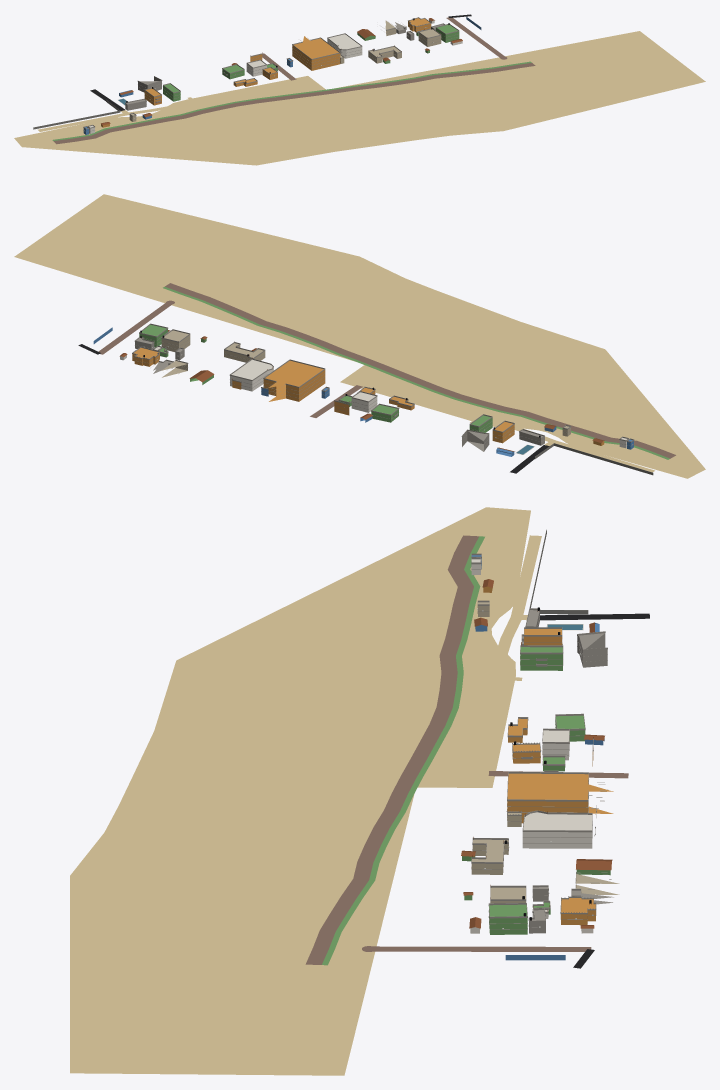
File: zone_t4_-2.glb
3 renders of one model, top to bottom at view 1: azimuth 30°, elevation 25°; view 2: azimuth 150°, elevation 25°; view 3: azimuth 270°, elevation 25°, orthographic. The views are drawn at different scales.
Parts seen in each view (by area): view 1: zone_plage_t4_-2, promenade_t4_-2, bld_peinture_ocre_t4_-2-col, parapet_t4_-2, piste_cyclable_t4_-2, route_residential_terre_t4_-2, bld_peinture_vert_t4_-2-col, bld_peinture_blanc_t4_-2-col, bld_peinture_ecaillee_t4_-2-col, bld_beton_t4_-2-col, route_residential_paves_t4_-2, bandeau_t4_-2 (+2 smaller); view 2: zone_plage_t4_-2, bld_peinture_ocre_t4_-2-col, promenade_t4_-2, parapet_t4_-2, bld_peinture_blanc_t4_-2-col, piste_cyclable_t4_-2, bld_peinture_ecaillee_t4_-2-col, bld_peinture_vert_t4_-2-col, route_residential_terre_t4_-2, bld_beton_t4_-2-col, route_residential_paves_t4_-2, bandeau_t4_-2 (+1 smaller); view 3: zone_plage_t4_-2, promenade_t4_-2, bld_peinture_ocre_t4_-2-col, parapet_t4_-2, bld_peinture_blanc_t4_-2-col, bld_peinture_vert_t4_-2-col, route_residential_terre_t4_-2, piste_cyclable_t4_-2, bld_peinture_ecaillee_t4_-2-col, bld_beton_t4_-2-col, route_residential_paves_t4_-2, toit_tole_t4_-2 (+1 smaller).
Boxes of the visible parts, x1,y1,x2,y2 form: zone_plage_t4_-2: (14,31,705,165); promenade_t4_-2: (53,63,535,144); bld_peinture_ocre_t4_-2-col: (101,18,431,127); parapet_t4_-2: (83,17,459,129); piste_cyclable_t4_-2: (52,61,531,140); route_residential_terre_t4_-2: (37,80,296,131); bld_peinture_vert_t4_-2-col: (163,24,459,101); bld_peinture_blanc_t4_-2-col: (89,20,462,133); bld_peinture_ecaillee_t4_-2-col: (129,20,441,121); bld_beton_t4_-2-col: (125,22,443,110); route_residential_paves_t4_-2: (262,17,507,80); bandeau_t4_-2: (86,24,458,132); zone_plage_t4_-2: (14,194,705,478); bld_peinture_ocre_t4_-2-col: (132,348,604,445); promenade_t4_-2: (165,283,675,458); parapet_t4_-2: (132,323,634,442); bld_peinture_blanc_t4_-2-col: (120,331,626,448); piste_cyclable_t4_-2: (163,286,669,459); bld_peinture_ecaillee_t4_-2-col: (161,330,570,436); bld_peinture_vert_t4_-2-col: (139,324,492,432); route_residential_terre_t4_-2: (359,382,654,472); bld_beton_t4_-2-col: (135,338,544,451); route_residential_paves_t4_-2: (98,300,362,417); bandeau_t4_-2: (132,332,633,447); zone_plage_t4_-2: (70,507,530,1075); promenade_t4_-2: (305,535,478,964); bld_peinture_ocre_t4_-2-col: (483,587,613,925); parapet_t4_-2: (471,553,607,922); bld_peinture_blanc_t4_-2-col: (470,559,593,933); bld_peinture_vert_t4_-2-col: (462,647,610,934); route_residential_terre_t4_-2: (465,535,541,775); piste_cyclable_t4_-2: (322,536,484,965); bld_peinture_ecaillee_t4_-2-col: (471,602,619,903); bld_beton_t4_-2-col: (526,610,613,933); route_residential_paves_t4_-2: (362,771,628,951); toit_tole_t4_-2: (461,579,612,928).
Size of the model in its own units: 663 by 12.9 by 286.
